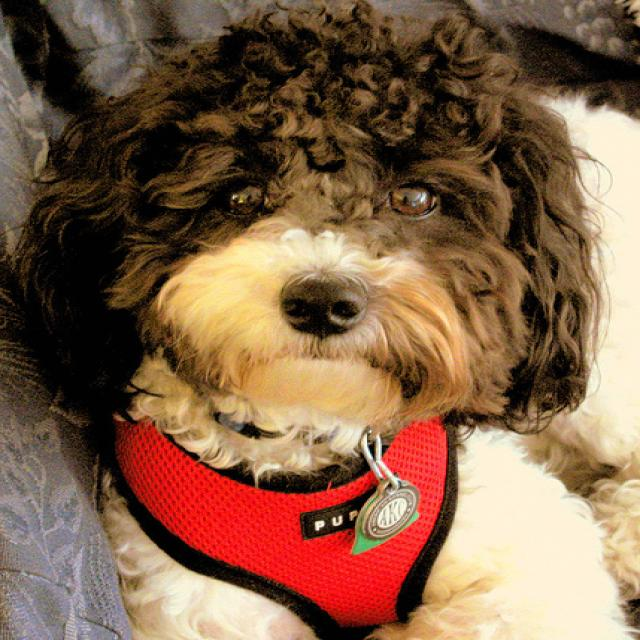dog-havanese: (31, 29, 637, 637)
